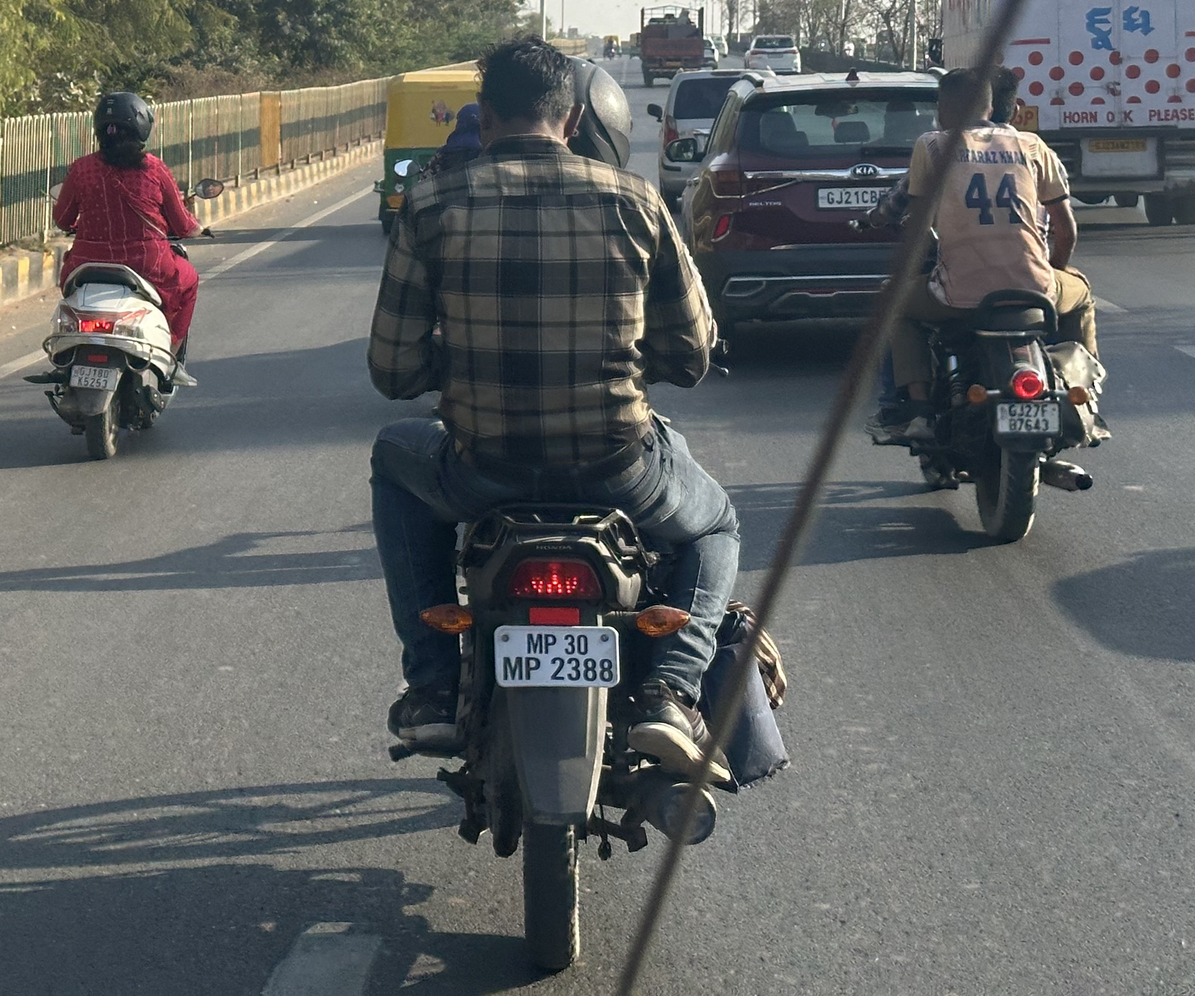BikeWithRider: (349, 26, 799, 981), (850, 54, 1122, 554), (15, 81, 230, 469)
Helmet: (81, 82, 166, 167)
NoHelmet: (464, 30, 587, 164), (924, 61, 999, 138), (974, 59, 1032, 131)
